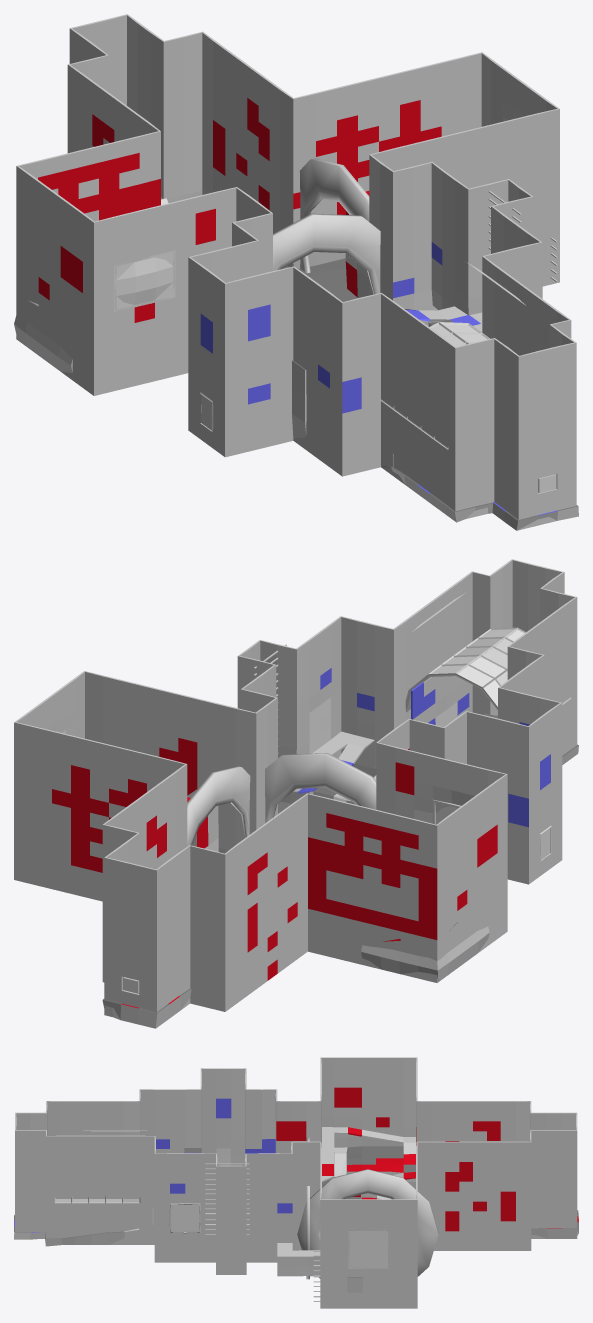
The model's file is stage 1.fbx.
The picture shows the model from 3 angles, top to bottom: view 1: azimuth 30°, elevation 25°; view 2: azimuth 150°, elevation 25°; view 3: azimuth 270°, elevation 25°; orthographic projection. The views are drawn at different scales.
Visible parts, largest first — view 1: 平面; view 2: 平面; view 3: 平面, 立方体.022.
Boxes of the visible parts, bbox=[...] form: 平面: bbox=[14, 14, 578, 530]; 平面: bbox=[14, 559, 578, 1028]; 平面: bbox=[14, 1057, 578, 1308]; 立方体.022: bbox=[205, 1163, 249, 1234].
Size of the model in its own units: 37352 by 18630 by 62176.
